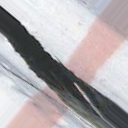crackTip: (1, 5, 128, 127)
